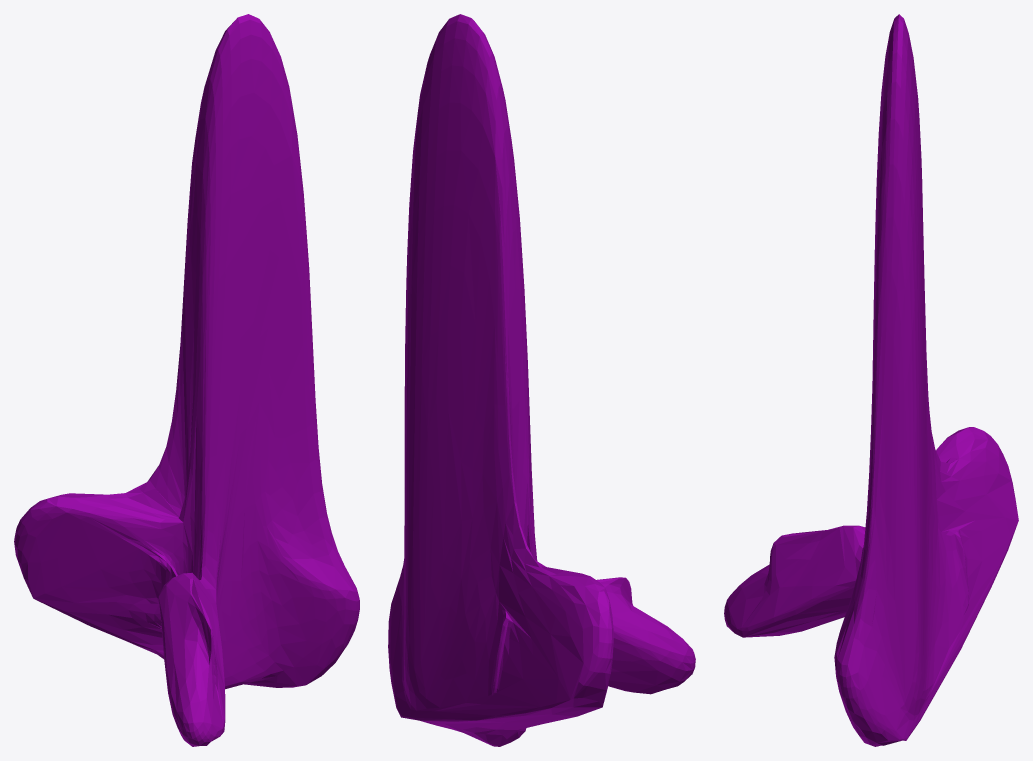
3 views of the same model, side by side, from view 1: azimuth 30°, elevation 25°; view 2: azimuth 150°, elevation 25°; view 3: azimuth 270°, elevation 25° (orthographic). The views are drawn at different scales.
Parts seen in each view (by area): view 1: 084_Cube.346; view 2: 084_Cube.346; view 3: 084_Cube.346.
Boxes of the visible parts, x1,y1,x2,y2 form: 084_Cube.346: [14, 14, 359, 746]; 084_Cube.346: [388, 14, 695, 746]; 084_Cube.346: [724, 14, 1018, 746].
Size of the model in its own units: 4.95 by 11.65 by 4.41.
